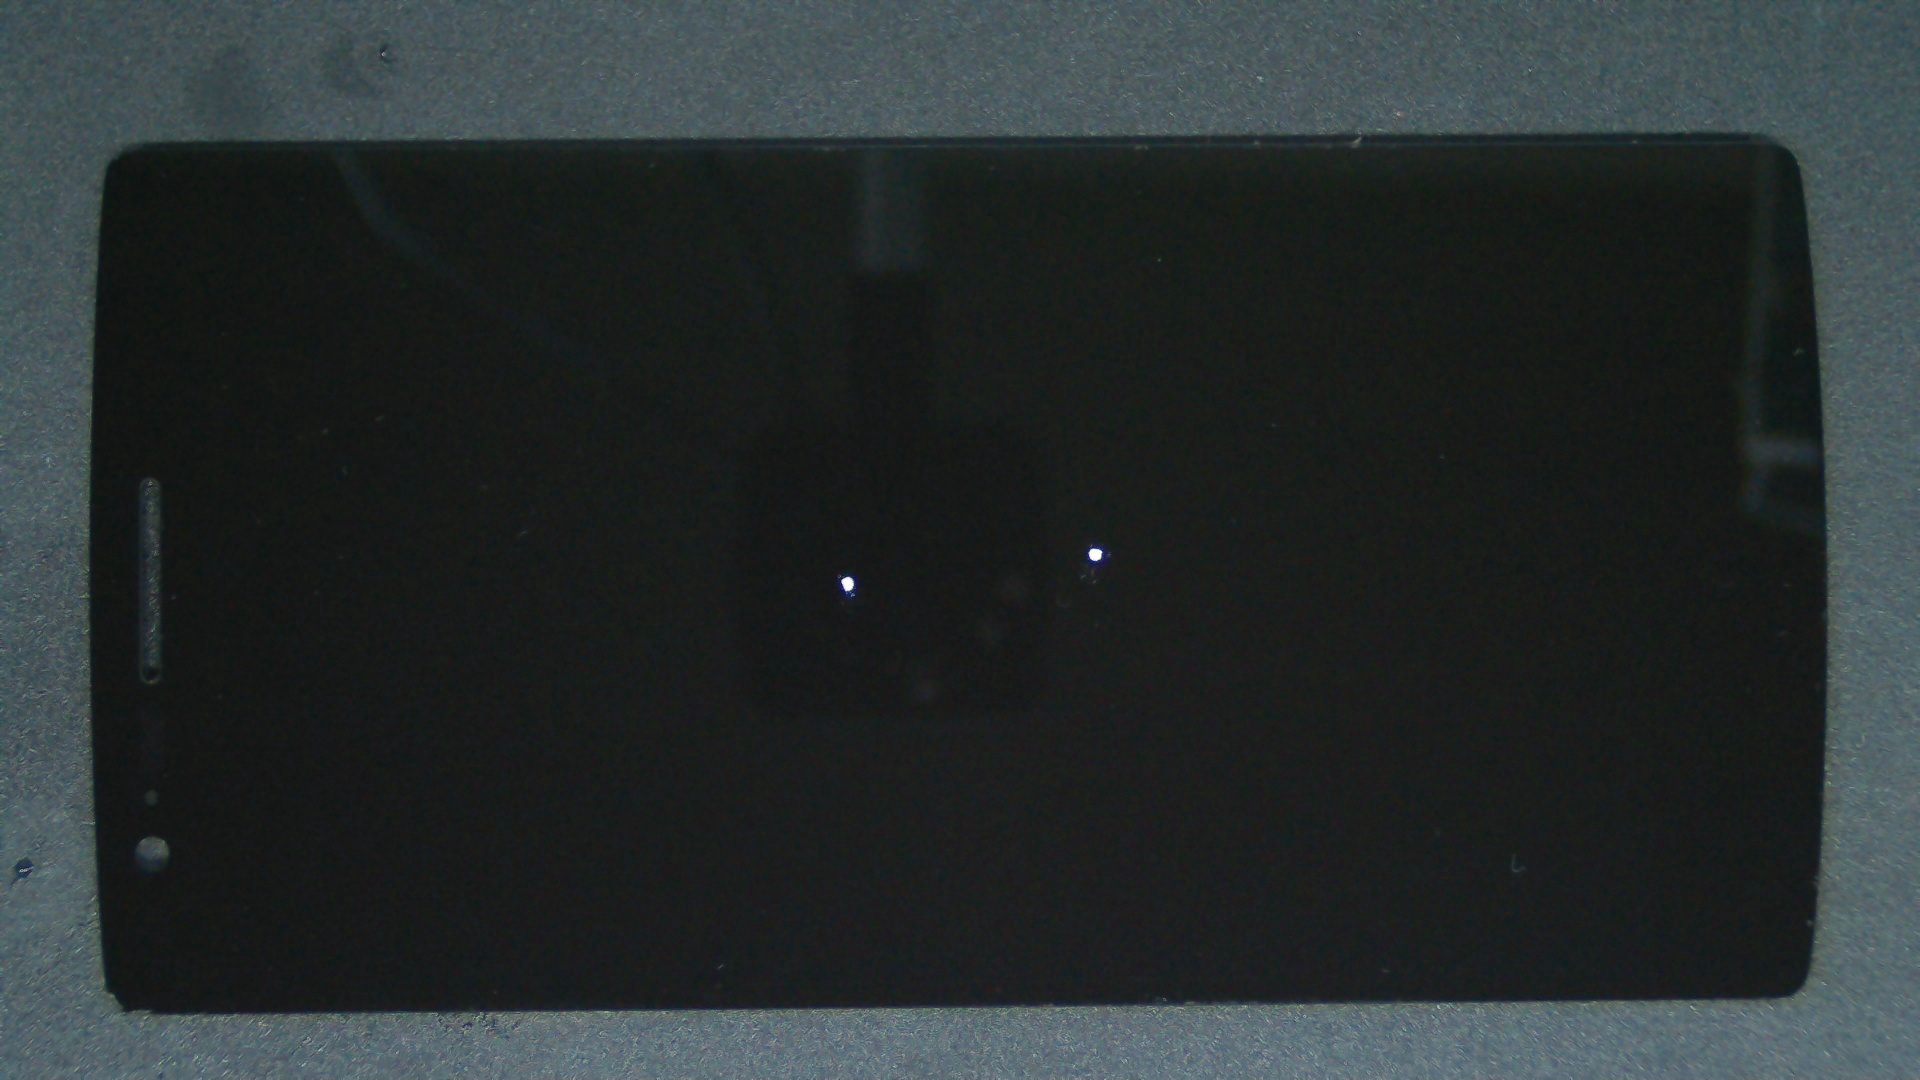oil: (545, 273, 1633, 819), (425, 286, 1270, 862)
